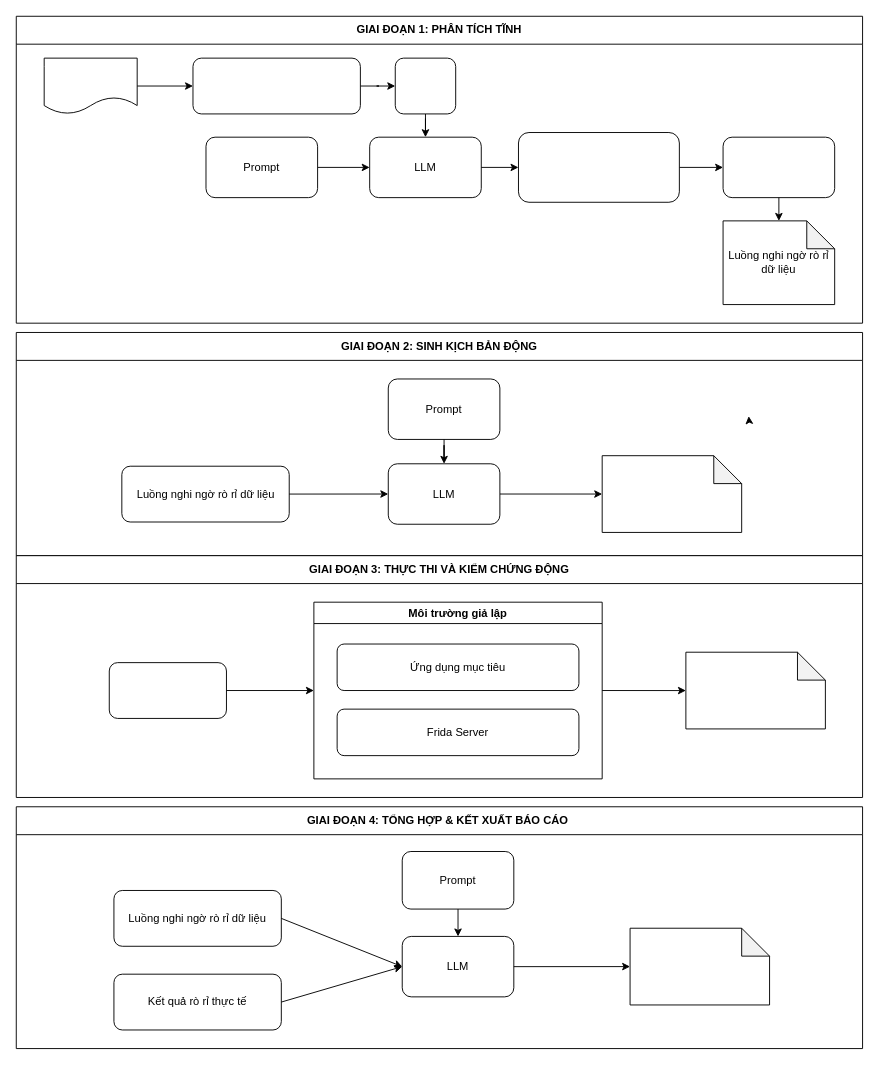
Some shapes in this 879 by 1065 pixel diagram are drawn without their labels. The shapes that lost their labels are listed below. From the top down, each one's centre as x and y in pixels, then its label:
(x=90, y=85): Tệp APK
(x=276, y=85): Danh sách phương thức (M 1 , M 2 ,...,M n )
(x=425, y=85): M i
(x=598, y=167): Tóm tắt phương thức M i Phương thức M i+1 Điểm rò rỉ dữ liệu (nếu có)
(x=778, y=167): Sơ đồ luồng hoạt động dữ liệu
(x=671, y=493): Srcipt Frida hoàn chỉnh
(x=167, y=690): Script Frida
(x=755, y=690): Kết quả dữ liệu rò rỉ
(x=699, y=966): Báo cáo phân tích
